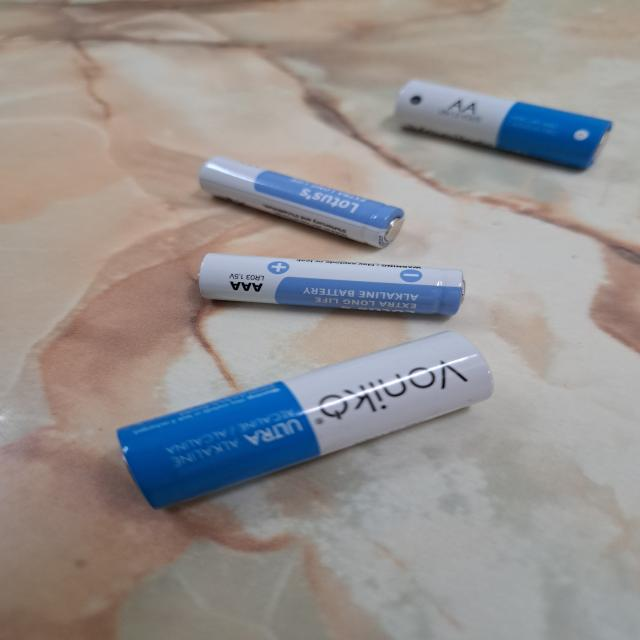battery: (115, 328, 498, 512), (388, 76, 618, 176), (196, 154, 407, 252), (198, 252, 468, 320)
